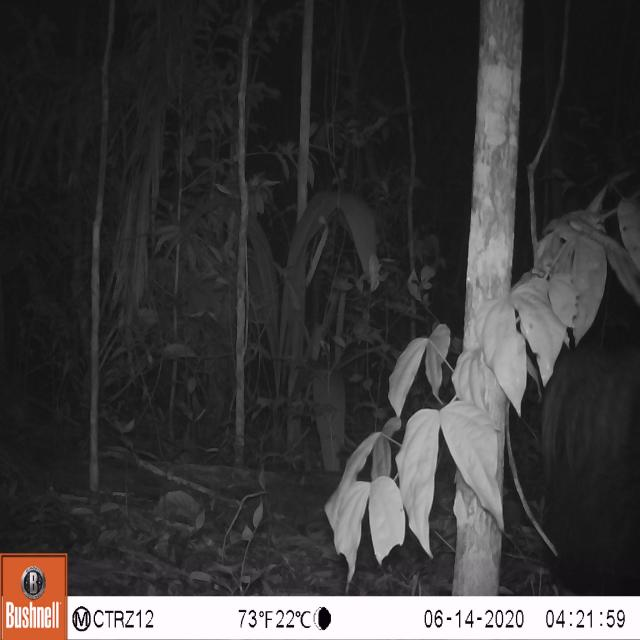Giant Anteater: (536, 271, 640, 595)
